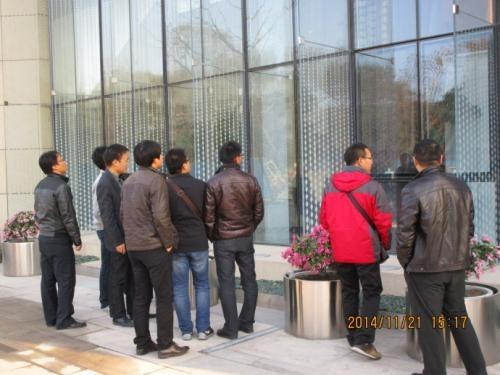NoHelmet: (413, 139, 447, 173), (217, 141, 243, 169)
NoVest: (324, 172, 388, 263), (123, 174, 171, 246), (34, 177, 76, 239)
